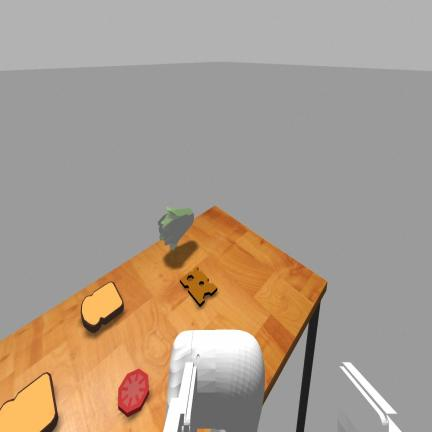cheese: (180, 267, 217, 306)
lettuce: (159, 207, 194, 250)
sliced_bread: (0, 372, 58, 431), (81, 282, 124, 332)
sliced_tomato: (118, 369, 148, 416)
